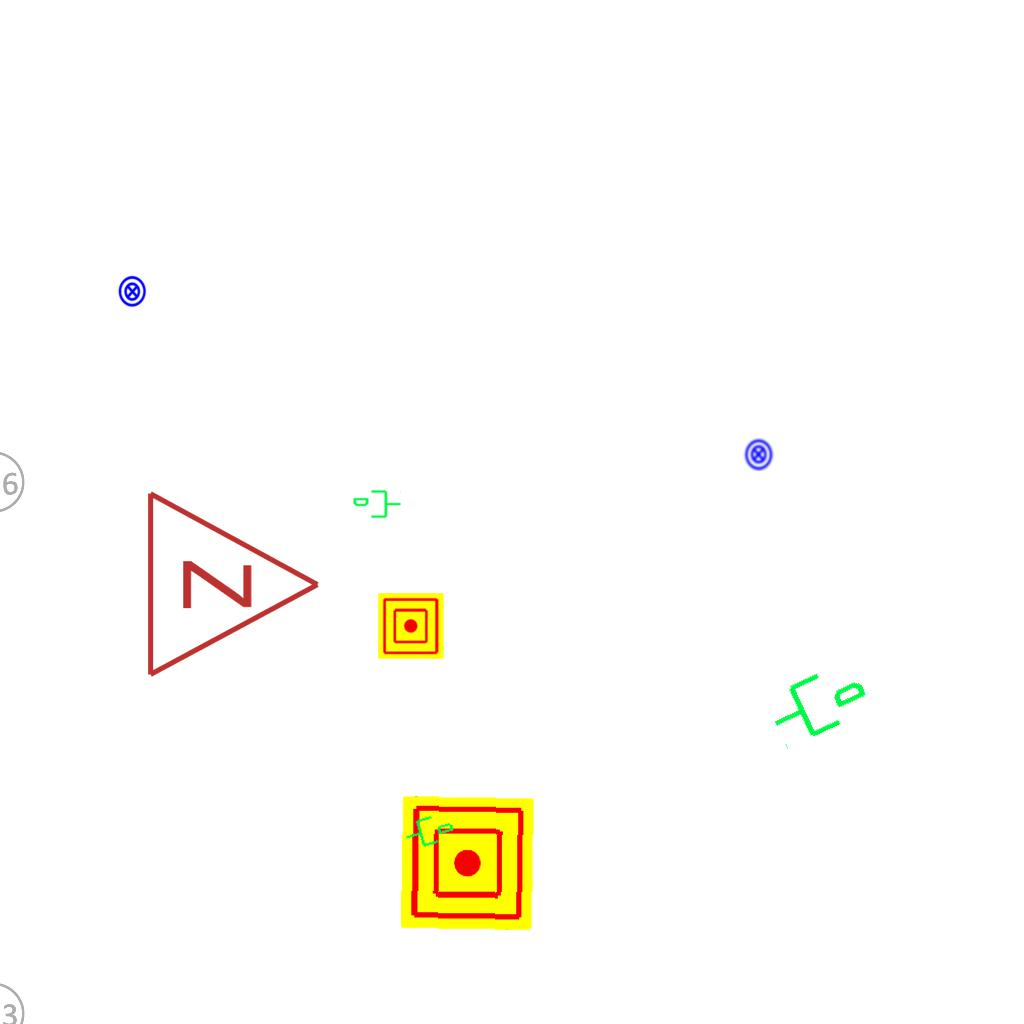Datenanschluss_einfach: (757, 649, 878, 755), (400, 806, 458, 854), (352, 488, 402, 522)
NAM-Nichtautomatischer_Melder: (399, 795, 535, 931), (378, 593, 444, 659)
Taster_beleuchtet: (116, 275, 149, 308), (742, 438, 775, 471)
Zimmersignalleuchte: (133, 484, 333, 680)
